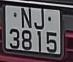1: (34, 31, 44, 53)
3: (9, 27, 22, 51)
5: (45, 30, 59, 56)
8: (21, 29, 34, 52)
J: (32, 7, 47, 32)
N: (20, 7, 34, 31)
